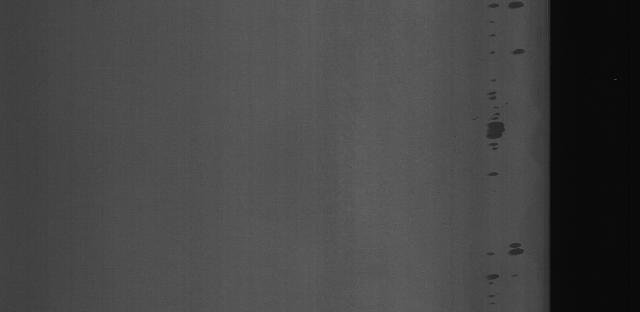oil_spot: (481, 83, 508, 187), (483, 23, 502, 76), (482, 259, 505, 292), (484, 0, 528, 16), (502, 243, 530, 259), (511, 44, 530, 61)
